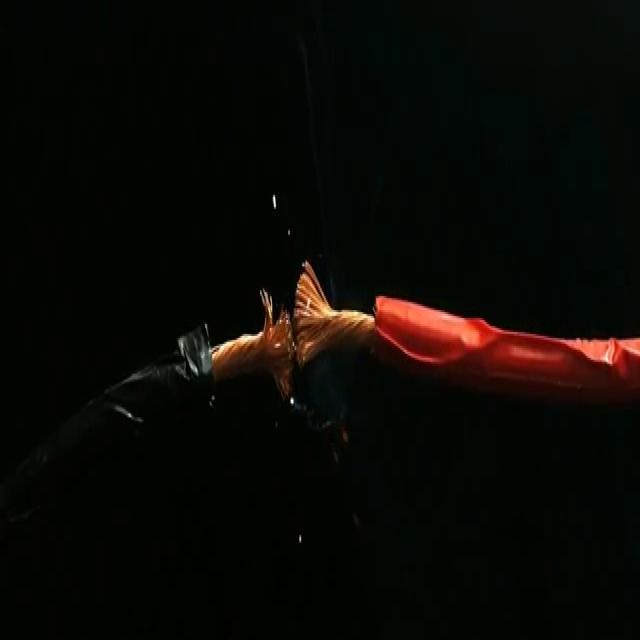fire: (261, 185, 289, 219)
